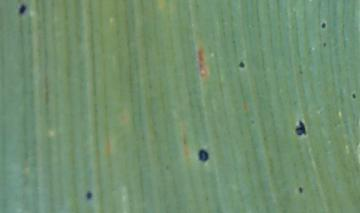tarspot: (294, 119, 307, 137), (196, 149, 209, 162), (17, 4, 27, 17), (84, 192, 93, 200), (296, 185, 304, 194), (319, 21, 327, 29), (351, 90, 357, 100), (238, 62, 246, 69), (321, 41, 327, 47)
